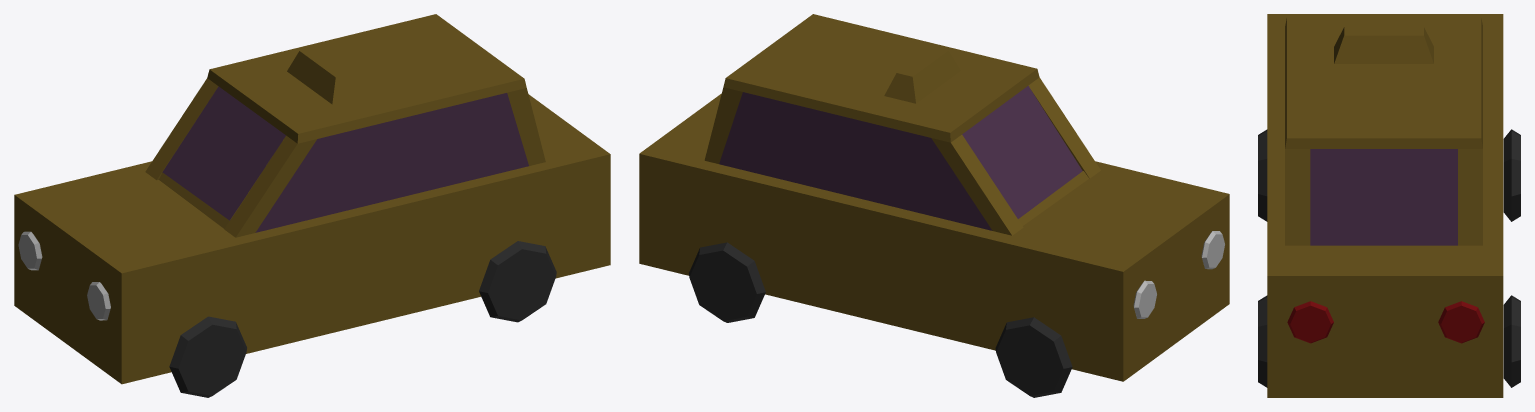
Rendered from Car3.fbx.
3 renders of one model, left to right at view 1: azimuth 30°, elevation 25°; view 2: azimuth 150°, elevation 25°; view 3: azimuth 270°, elevation 25°, orthographic. The views are drawn at different scales.
Visible parts, largest first — view 1: Cube; view 2: Cube; view 3: Cube.
Part boxes in pixels (bbox=[...]): Cube: bbox=[14, 14, 610, 397]; Cube: bbox=[639, 14, 1229, 397]; Cube: bbox=[1258, 14, 1520, 397].
Bounding box in the file's own units: 755 × 369 × 314.
